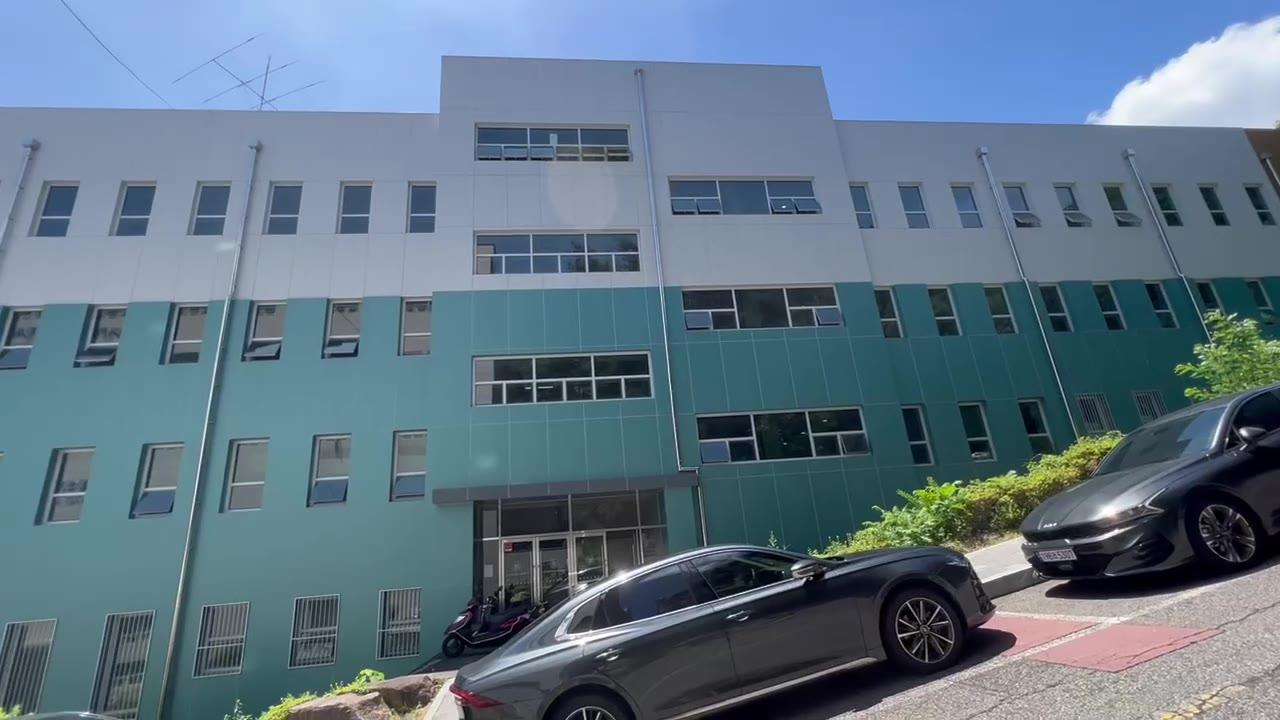building: (0, 22, 919, 546)
